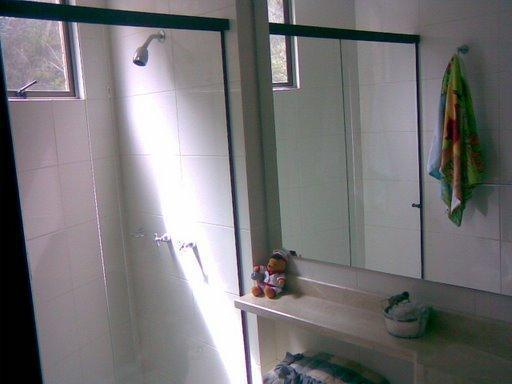Ducha: (3, 12, 253, 379)
